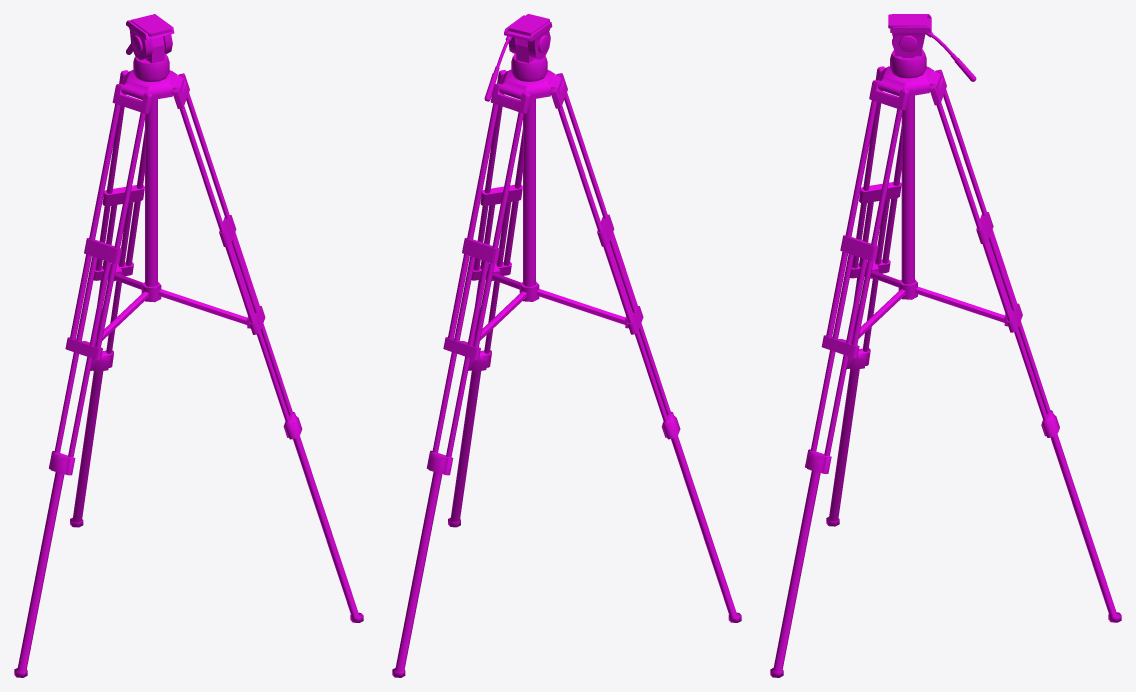
Rendered from P_0169_Tripod.fbx.
3 renders of one model, left to right at view 1: azimuth 30°, elevation 25°; view 2: azimuth 150°, elevation 25°; view 3: azimuth 270°, elevation 25°, orthographic.
Visible parts, largest first — view 1: Tripod_Leg_05 (×3), Tripod_Leg_10 (×3), Tripod_Leg_04 (×3), Tripod_Leg_03 (×3), Tripod_Main_07, Tripod_Leg_02 (×2), Tripod_Leg_09 (×2), Tripod_Main_02, Tripod_Main_04, Tripod_Main_01, Tripod_Leg_07, Tripod_Leg_01 (+1 smaller); view 2: Tripod_Leg_05 (×3), Tripod_Leg_10 (×3), Tripod_Leg_04 (×3), Tripod_Leg_03 (×3), Tripod_Main_07, Tripod_Leg_02 (×2), Tripod_Leg_09 (×2), Tripod_Main_02, Tripod_Main_04, Tripod_Main_01, Tripod_Leg_07, Tripod_Leg_01 (+1 smaller); view 3: Tripod_Leg_05 (×3), Tripod_Leg_10 (×3), Tripod_Leg_04 (×3), Tripod_Main_07, Tripod_Leg_03 (×3), Tripod_Leg_02 (×2), Tripod_Leg_09 (×2), Tripod_Main_02, Tripod_Main_01, Tripod_Main_04, Tripod_Leg_07, Tripod_Leg_01.
Part boxes in pixels (bbox=[...]): Tripod_Leg_05 (×3): bbox=[14, 371, 363, 677]; Tripod_Leg_10 (×3): bbox=[70, 104, 255, 339]; Tripod_Leg_04 (×3): bbox=[95, 93, 260, 347]; Tripod_Leg_03 (×3): bbox=[54, 202, 290, 452]; Tripod_Main_07: bbox=[141, 99, 161, 302]; Tripod_Leg_02 (×2): bbox=[68, 235, 293, 457]; Tripod_Leg_09 (×2): bbox=[84, 185, 144, 264]; Tripod_Main_02: bbox=[121, 70, 184, 99]; Tripod_Main_04: bbox=[133, 36, 169, 81]; Tripod_Main_01: bbox=[126, 14, 174, 60]; Tripod_Leg_07: bbox=[159, 289, 247, 324]; Tripod_Leg_01: bbox=[112, 84, 152, 113]; Tripod_Leg_05 (×3): bbox=[392, 371, 741, 677]; Tripod_Leg_10 (×3): bbox=[448, 103, 633, 339]; Tripod_Leg_04 (×3): bbox=[473, 92, 638, 347]; Tripod_Leg_03 (×3): bbox=[432, 202, 668, 452]; Tripod_Main_07: bbox=[519, 99, 539, 301]; Tripod_Leg_02 (×2): bbox=[446, 235, 671, 457]; Tripod_Leg_09 (×2): bbox=[462, 184, 522, 263]; Tripod_Main_02: bbox=[499, 69, 562, 99]; Tripod_Main_04: bbox=[511, 38, 547, 81]; Tripod_Main_01: bbox=[504, 15, 552, 59]; Tripod_Leg_07: bbox=[537, 289, 625, 324]; Tripod_Leg_01: bbox=[490, 83, 530, 113]; Tripod_Leg_05 (×3): bbox=[770, 369, 1121, 677]; Tripod_Leg_10 (×3): bbox=[826, 100, 1012, 337]; Tripod_Leg_04 (×3): bbox=[851, 89, 1017, 345]; Tripod_Main_07: bbox=[898, 95, 917, 299]; Tripod_Leg_03 (×3): bbox=[811, 199, 1048, 451]; Tripod_Leg_02 (×2): bbox=[824, 232, 1050, 455]; Tripod_Leg_09 (×2): bbox=[840, 182, 901, 261]; Tripod_Main_02: bbox=[878, 66, 941, 96]; Tripod_Main_01: bbox=[890, 14, 931, 57]; Tripod_Main_04: bbox=[890, 49, 926, 78]; Tripod_Leg_07: bbox=[915, 286, 1004, 322]; Tripod_Leg_01: bbox=[869, 80, 908, 110].
Bounding box in the file's own units: 74.64 × 130 × 70.77.
